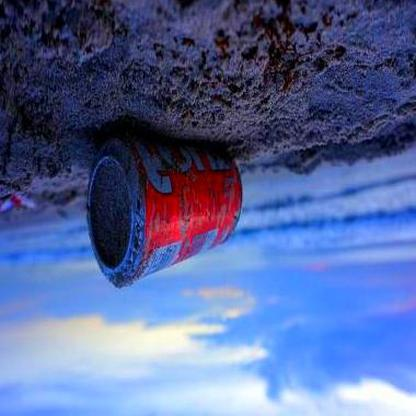can: (83, 145, 243, 287)
